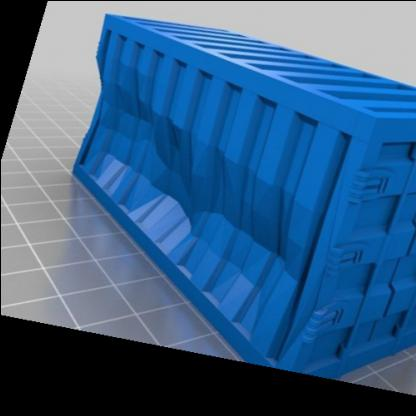Damage: (84, 97, 297, 260)
